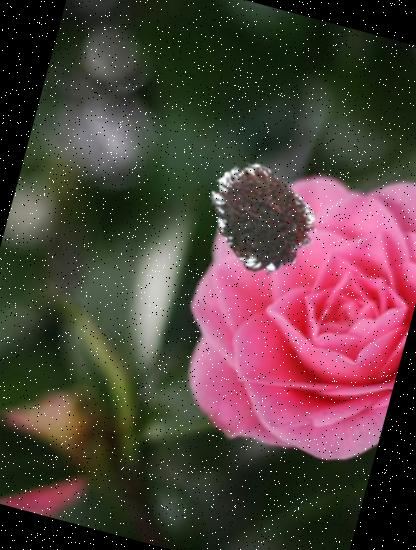Rambutan: (192, 146, 334, 288)
